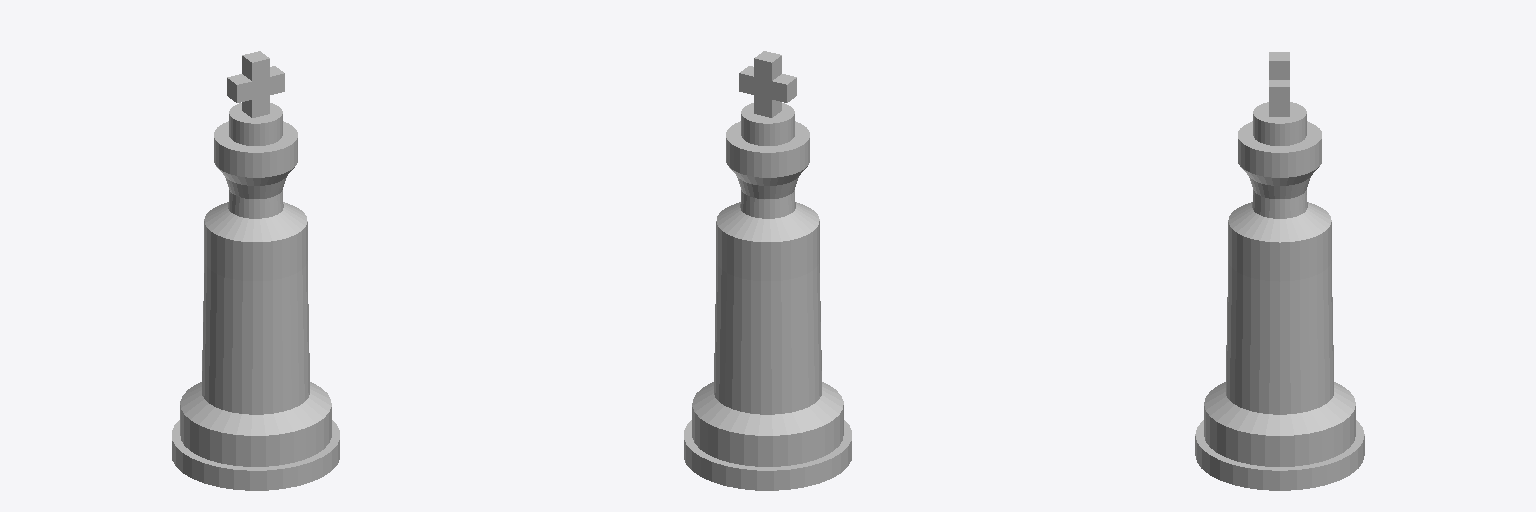
Rendered from ChessPiece.obj.
3 renders of one model, left to right at view 1: azimuth 30°, elevation 25°; view 2: azimuth 150°, elevation 25°; view 3: azimuth 270°, elevation 25°, orthographic.
Visible parts, largest first — view 1: ChessPiece; view 2: ChessPiece; view 3: ChessPiece.
Part boxes in pixels (bbox=[...]): ChessPiece: bbox=[172, 51, 339, 490]; ChessPiece: bbox=[684, 51, 851, 490]; ChessPiece: bbox=[1195, 52, 1364, 490].
Bounding box in the file's own units: 1.07 × 2.78 × 1.07.